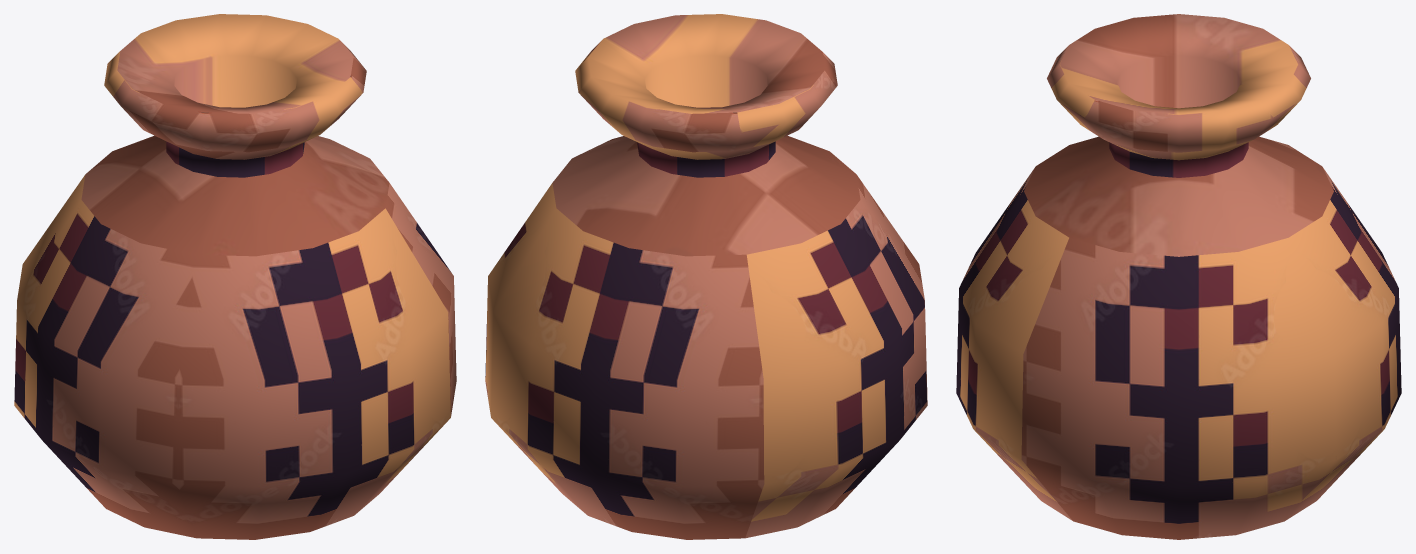
The model's file is Bag .fbx.
3 renders of one model, left to right at view 1: azimuth 30°, elevation 25°; view 2: azimuth 150°, elevation 25°; view 3: azimuth 270°, elevation 25°, orthographic.
Parts seen in each view (by area): view 1: Vert; view 2: Vert; view 3: Vert.
Part boxes in pixels (box(x1,y1,x2,y2)): Vert: box(14, 14, 456, 539); Vert: box(485, 14, 927, 539); Vert: box(956, 14, 1401, 539).
Bounding box in the file's own units: 27.14 × 25.74 × 25.74.
